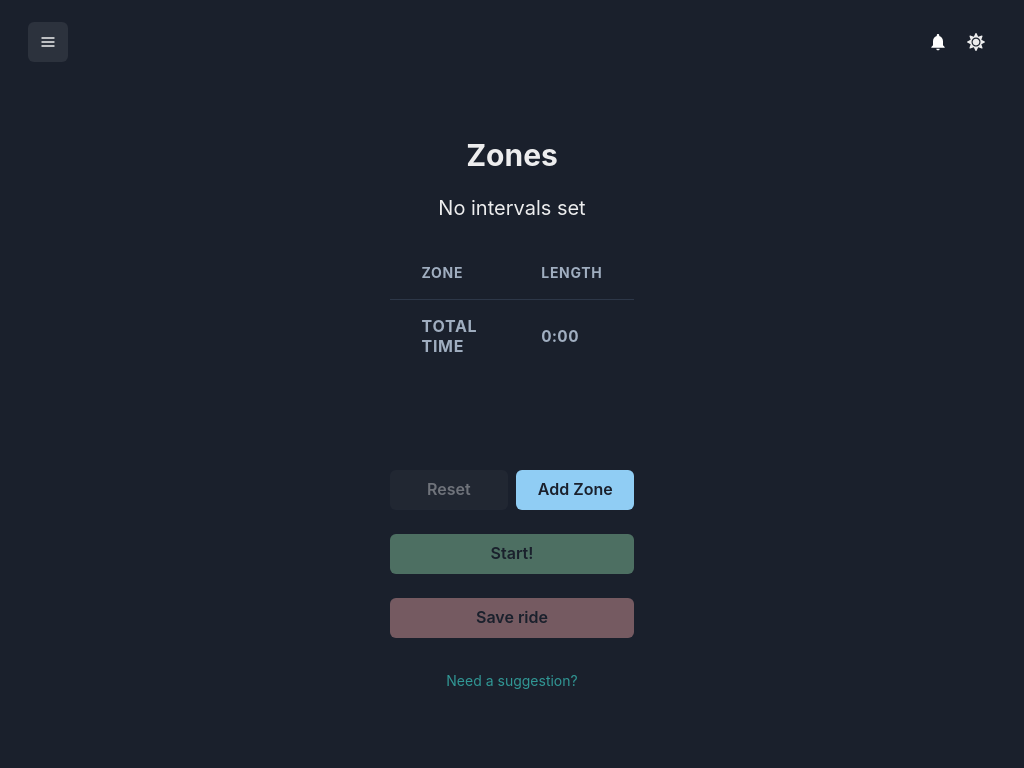
Test: Create custom ride › it should display the Add Zone modal when user clicks Add Zone
Click the button "Add Zone" at (575, 490), box [516,470,634,510]
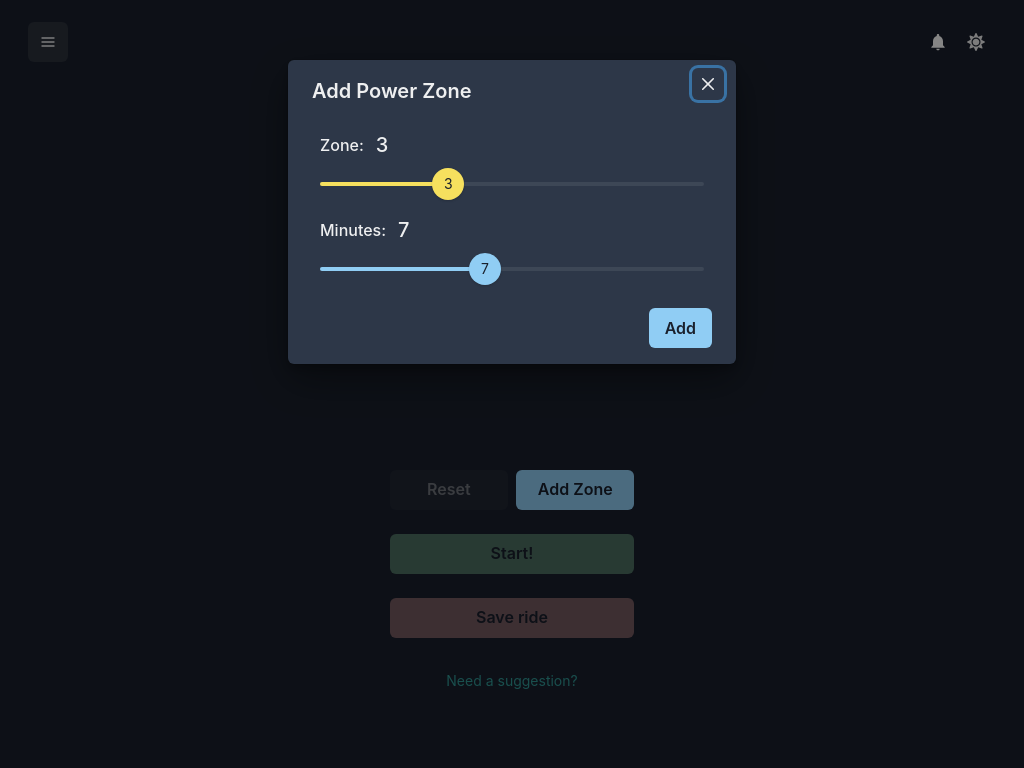
Expected: the text "Add Power Zone" is shown, [312,79,472,103]
